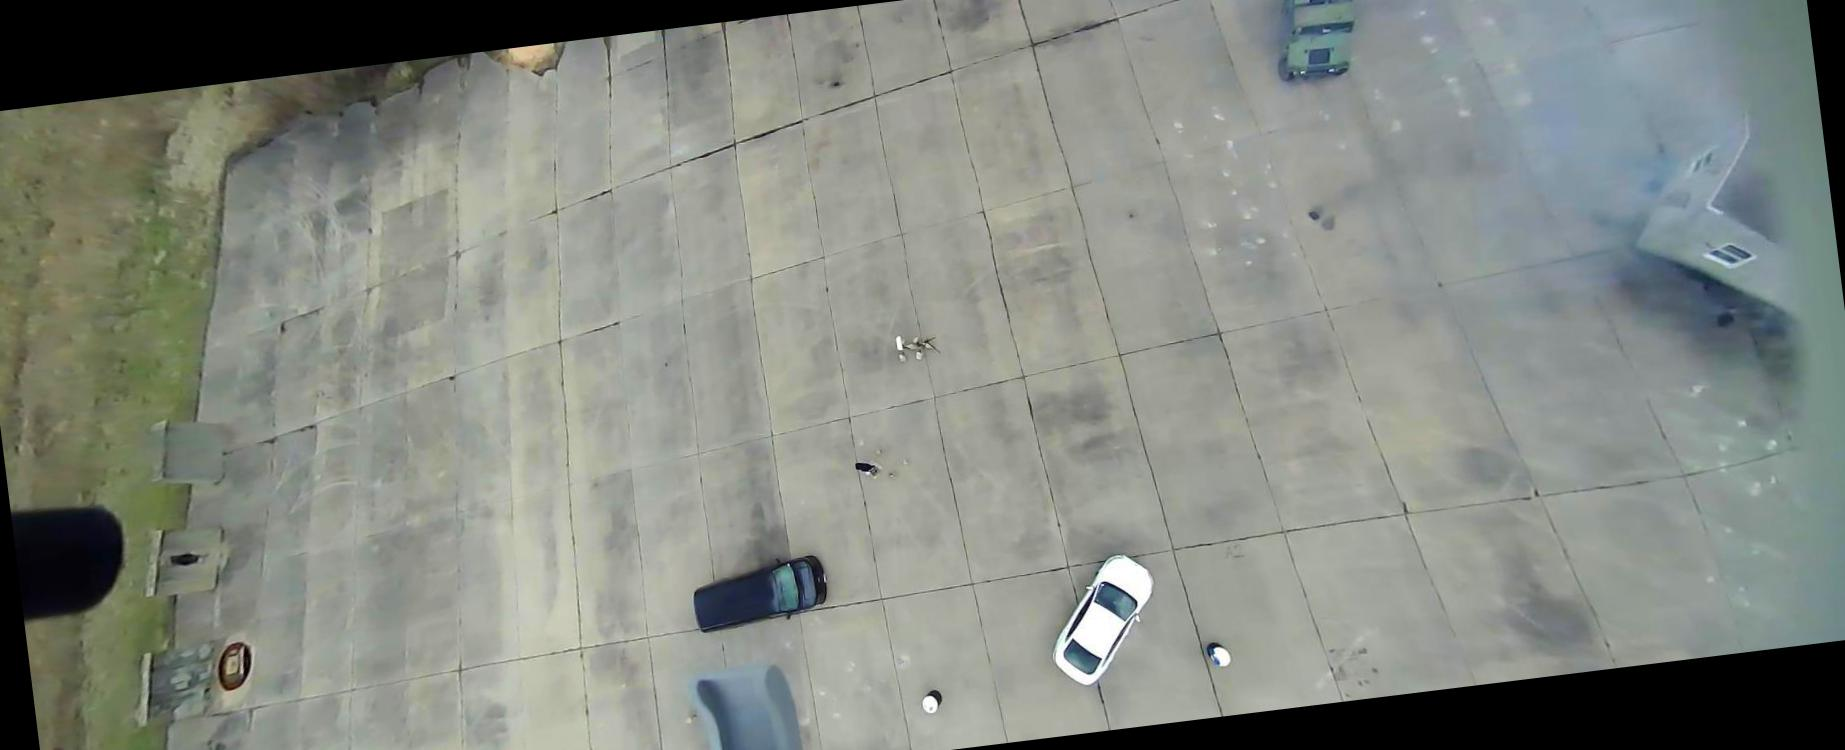vehicle: (1039, 550, 1166, 690), (690, 551, 831, 635)
